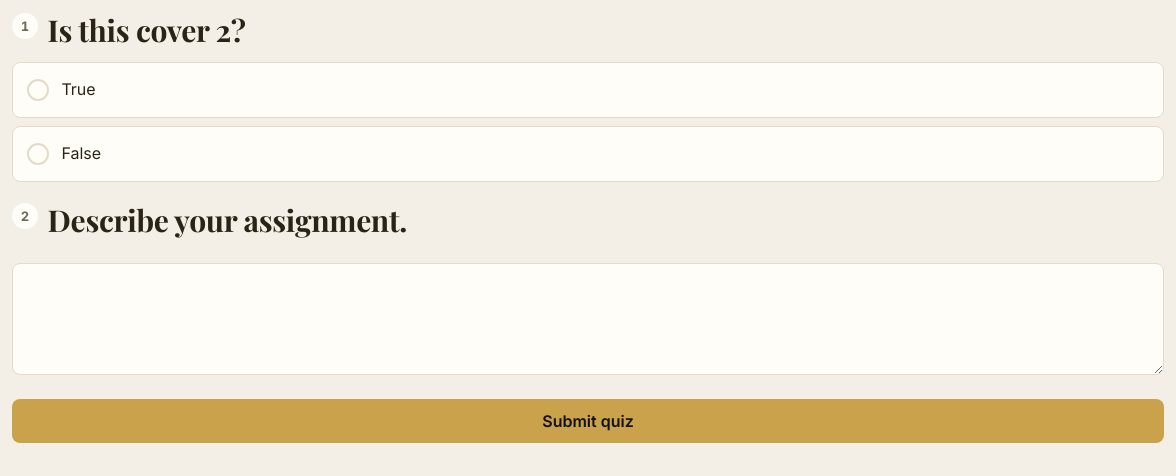
Test: QuizStep › autosaves an option pick immediately, with no debounce
Click the radio button labelled "True". click: (38, 90)
box: [27, 79, 49, 101]
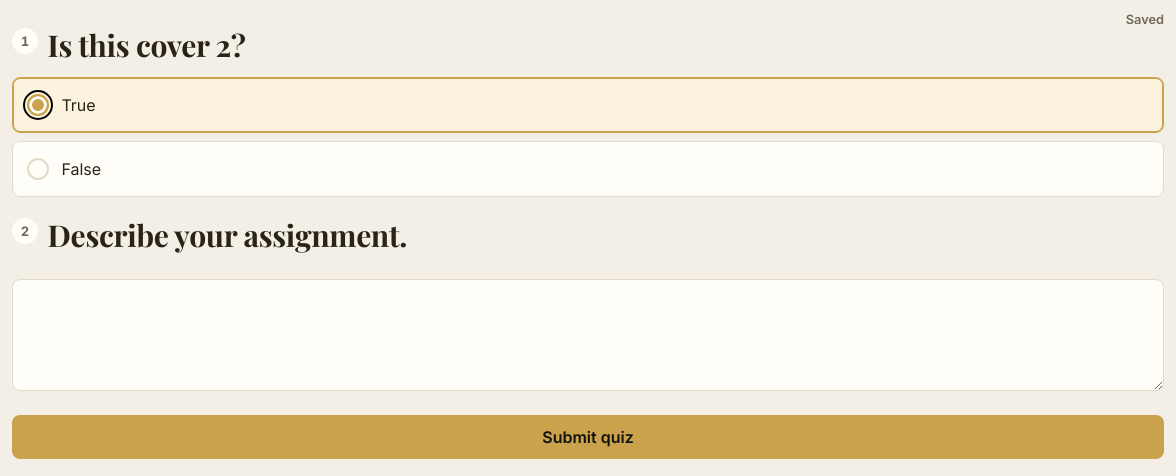
Now the text "Saved" is shown, box [1126, 12, 1164, 27]
